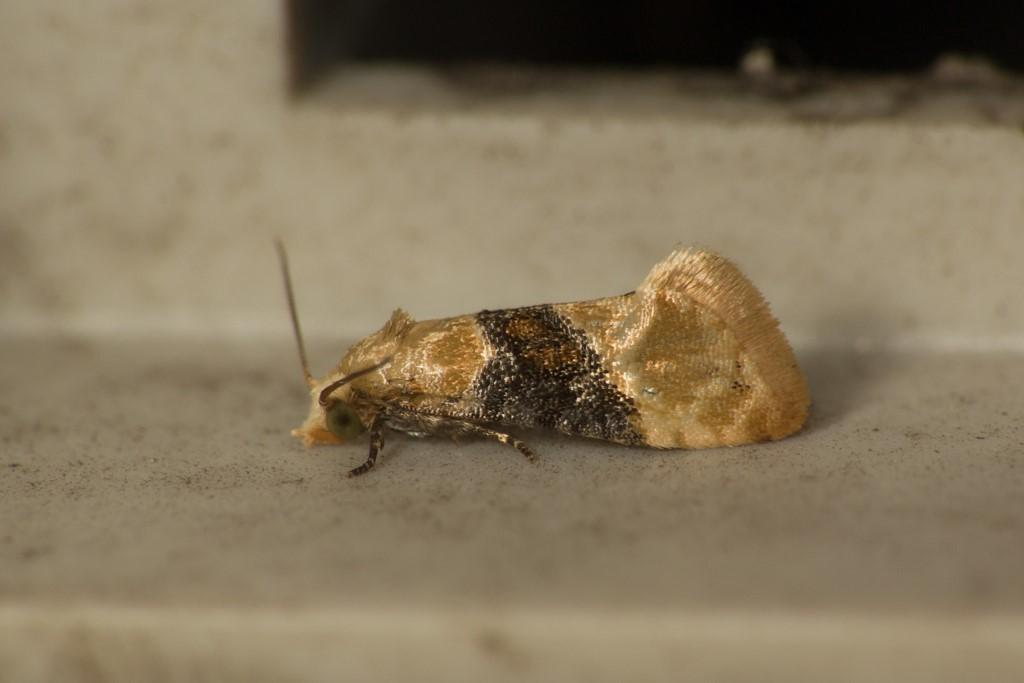Eupoecilia Ambiguella: (268, 234, 813, 481)
